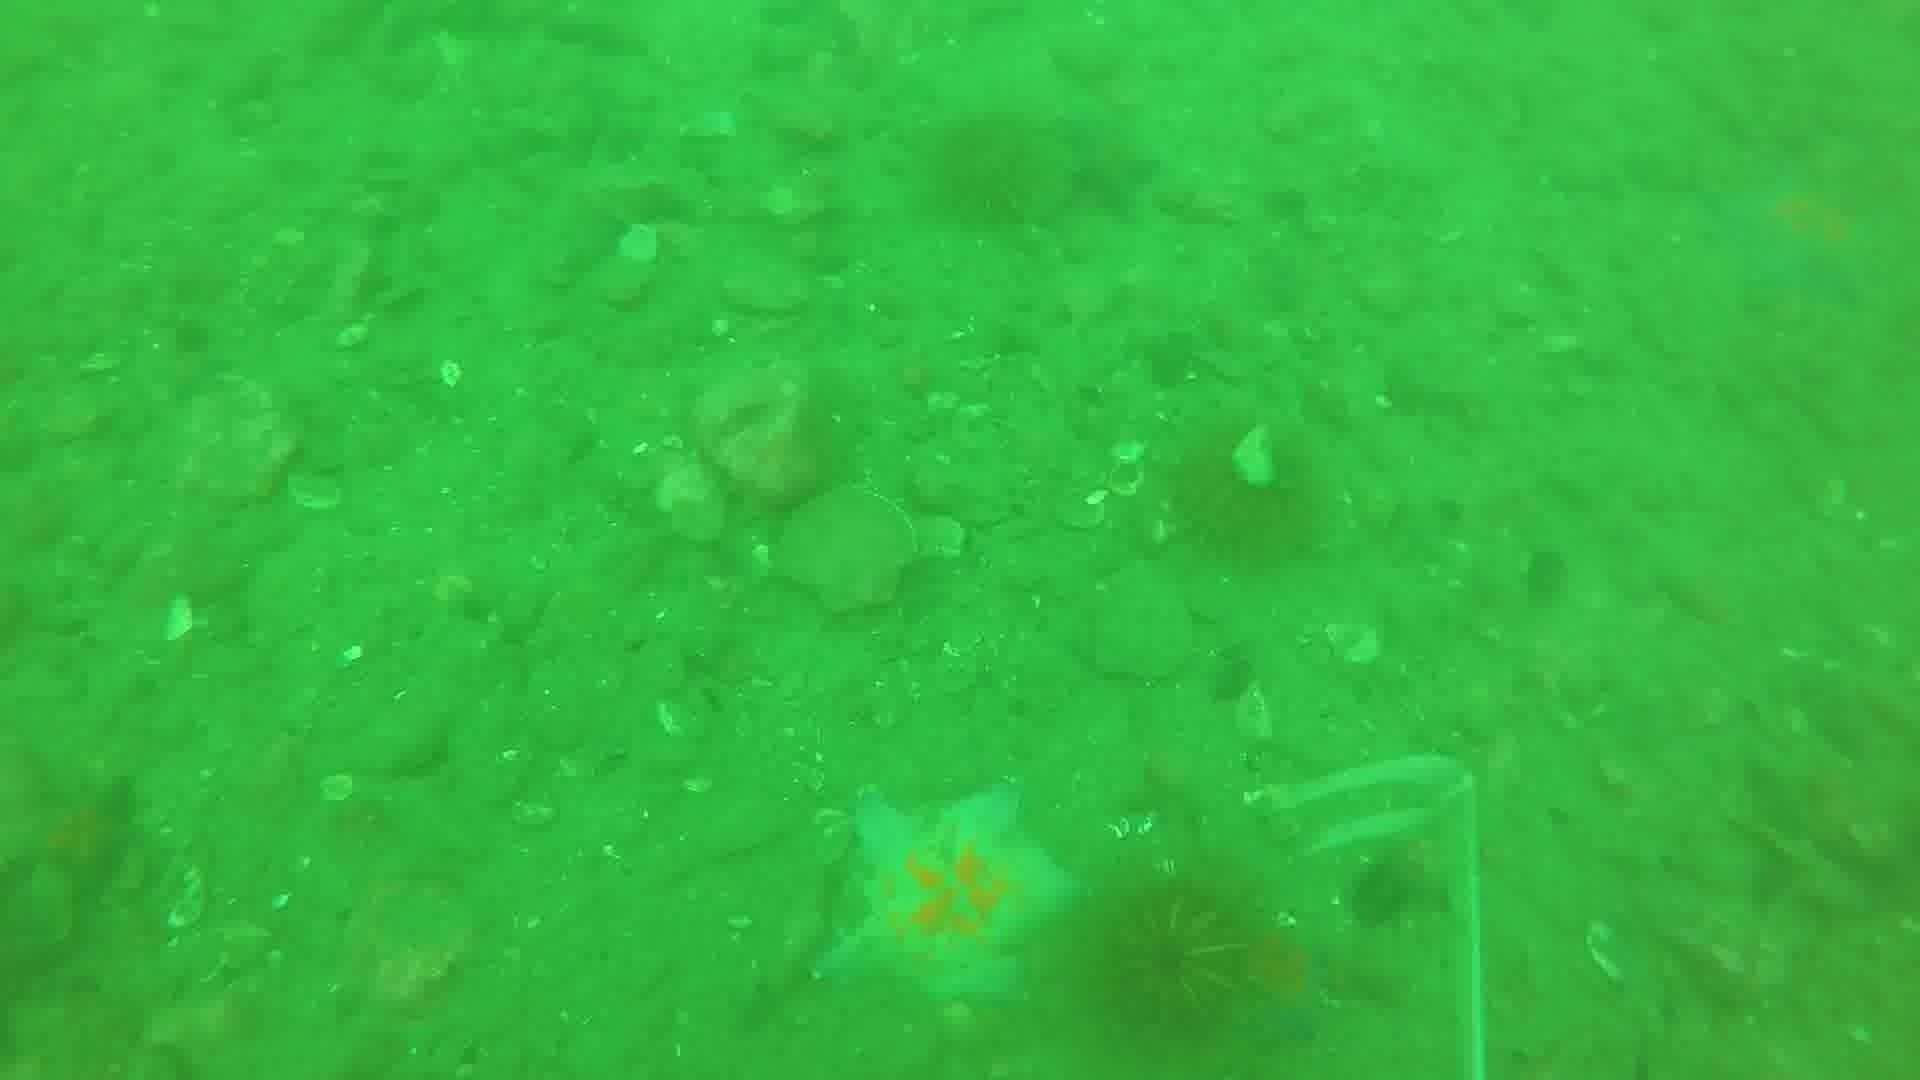echinus: (1163, 407, 1331, 572), (924, 108, 1073, 232), (1340, 851, 1429, 935), (1514, 542, 1575, 609)
scallop: (773, 484, 922, 618)
starfish: (814, 781, 1084, 1013), (1710, 162, 1886, 318), (21, 770, 145, 903), (1048, 111, 1164, 222)
